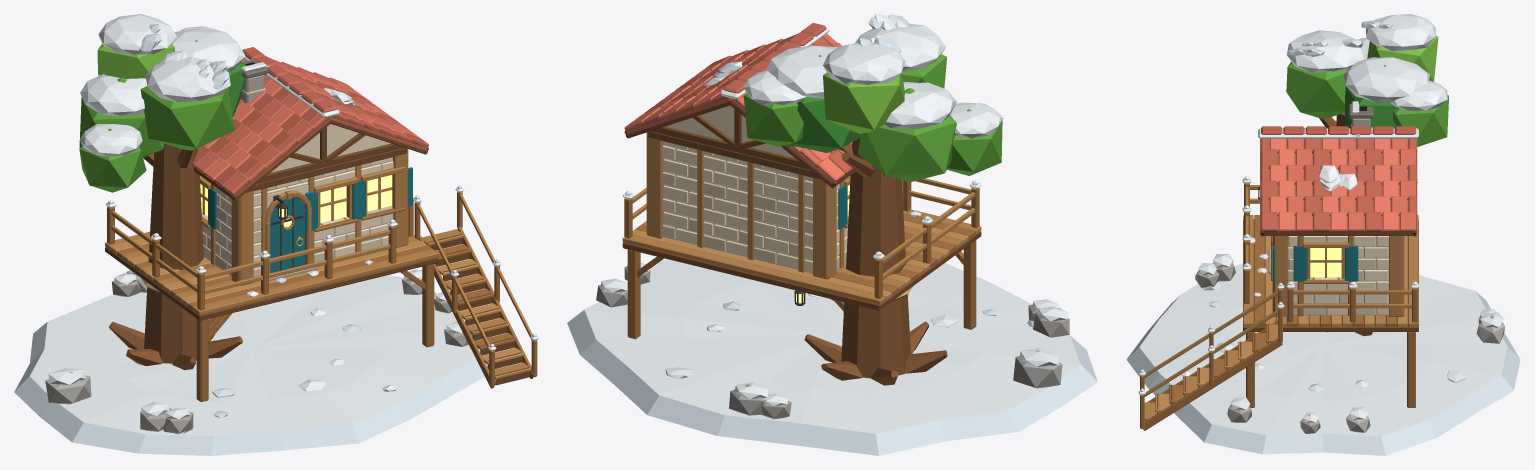
File: treehouse_t2_exterior.glb
3 views of the same model, side by side, from view 1: azimuth 30°, elevation 25°; view 2: azimuth 150°, elevation 25°; view 3: azimuth 270°, elevation 25° (orthographic). The views are drawn at different scales.
Parts seen in each view (by area): view 1: treehouse_t2_exterior, treehouse_t2_exterior_roof, part_door_leaf; view 2: treehouse_t2_exterior, treehouse_t2_exterior_roof; view 3: treehouse_t2_exterior, treehouse_t2_exterior_roof.
Part boxes in pixels (x1=…): treehouse_t2_exterior: x1=14, y1=143, x2=538, y2=455; treehouse_t2_exterior_roof: x1=79, y1=14, x2=428, y2=200; part_door_leaf: x1=270, y1=197, x2=305, y2=273; treehouse_t2_exterior: x1=567, y1=131, x2=1097, y2=455; treehouse_t2_exterior_roof: x1=624, y1=14, x2=1003, y2=188; treehouse_t2_exterior: x1=1126, y1=112, x2=1520, y2=455; treehouse_t2_exterior_roof: x1=1258, y1=14, x2=1448, y2=236.
Size of the model in its own units: 9.08 by 6.75 by 7.83.
